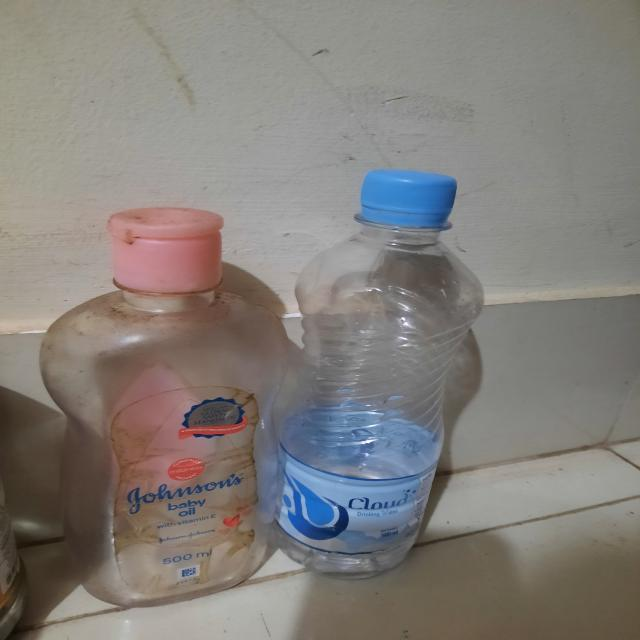Plastics: (43, 160, 537, 626)
